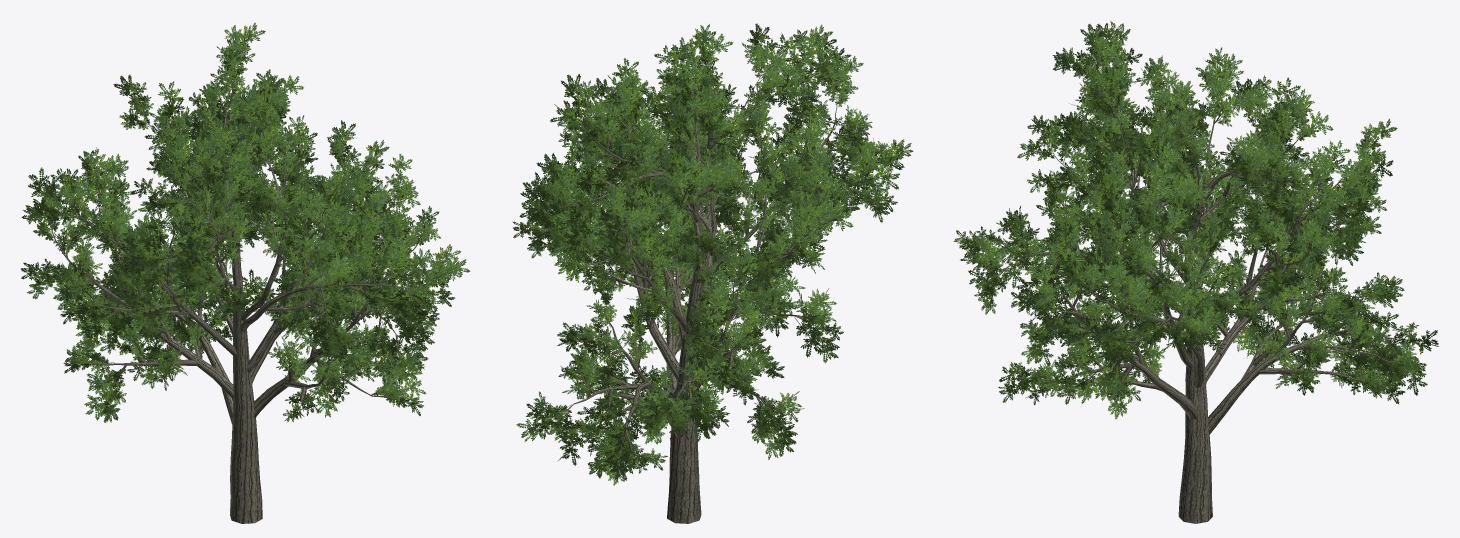
The model's file is ash_large_03.glb.
3 views of the same model, side by side, from view 1: azimuth 30°, elevation 25°; view 2: azimuth 150°, elevation 25°; view 3: azimuth 270°, elevation 25° (orthographic). The views are drawn at different scales.
Parts seen in each view (by area): view 1: Tree; view 2: Tree; view 3: Tree.
Part boxes in pixels (x1,y1,x2,y2): Tree: [21, 22, 470, 523]; Tree: [512, 23, 913, 523]; Tree: [953, 20, 1438, 523].
Bounding box in the file's own units: 73.22 × 89.73 × 87.35.
Materials: 2 (2 with a texture image).
